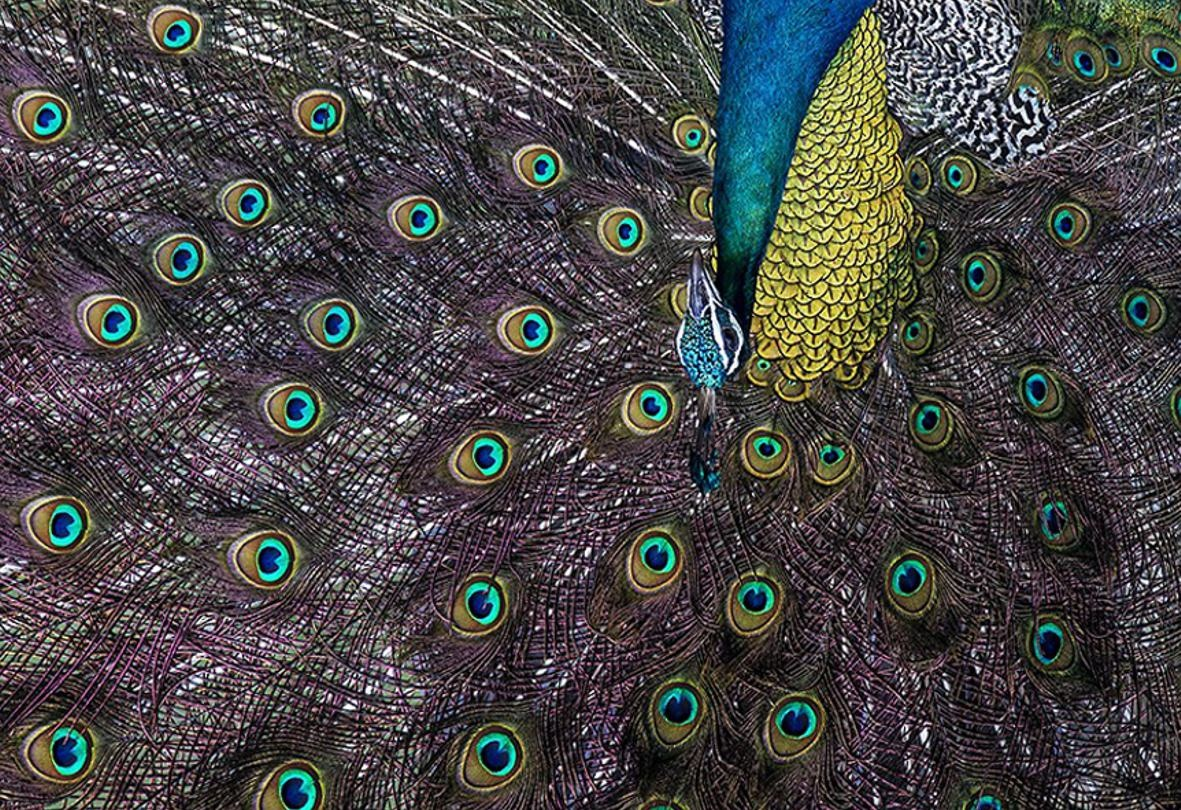peacock: (106, 17, 1181, 810)
